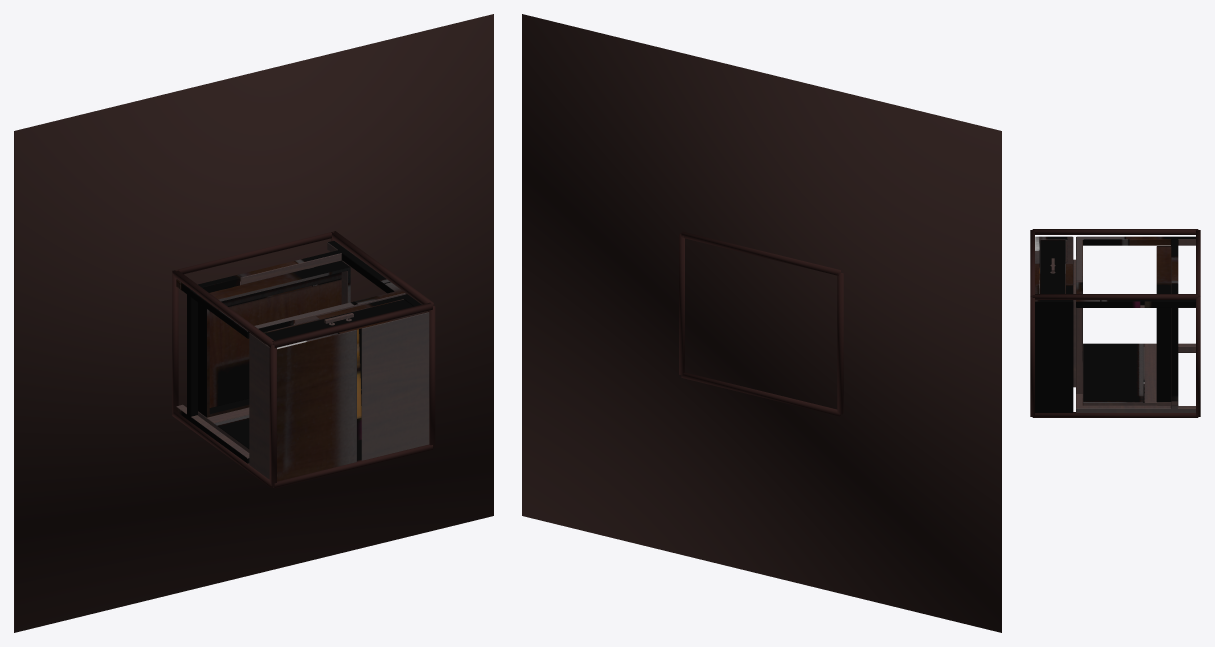
3 renders of one model, left to right at view 1: azimuth 30°, elevation 25°; view 2: azimuth 150°, elevation 25°; view 3: azimuth 270°, elevation 25°, orthographic. The views are drawn at different scales.
Size of the model in its own units: 2 by 2 by 0.7312.
